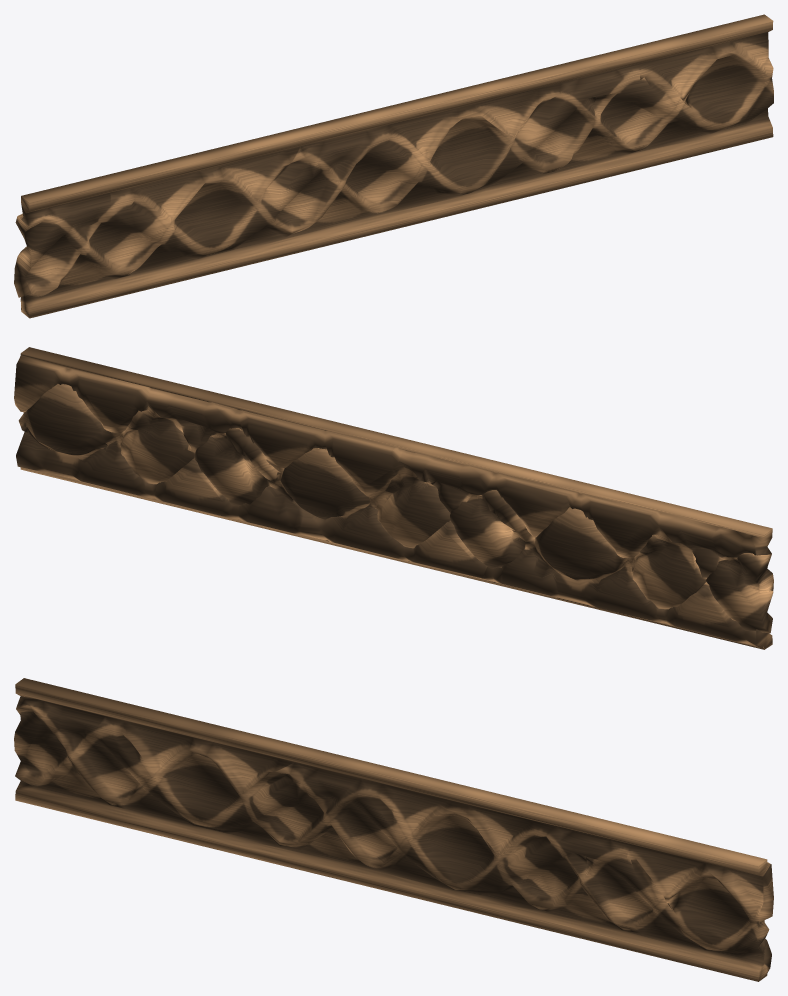
File: carve_slyng.glb
3 renders of one model, top to bottom at view 1: azimuth 30°, elevation 25°; view 2: azimuth 150°, elevation 25°; view 3: azimuth 330°, elevation 25°, orthographic.
Parts seen in each view (by area): view 1: relief; view 2: relief; view 3: relief.
Part boxes in pixels (left/top/right/bottom): relief: left=14, top=14, right=773, bottom=318; relief: left=14, top=347, right=773, bottom=649; relief: left=14, top=678, right=773, bottom=981.
Size of the model in its own units: 2.04 by 0.2988 by 0.0711.
Materials: 1 (1 with a texture image).
